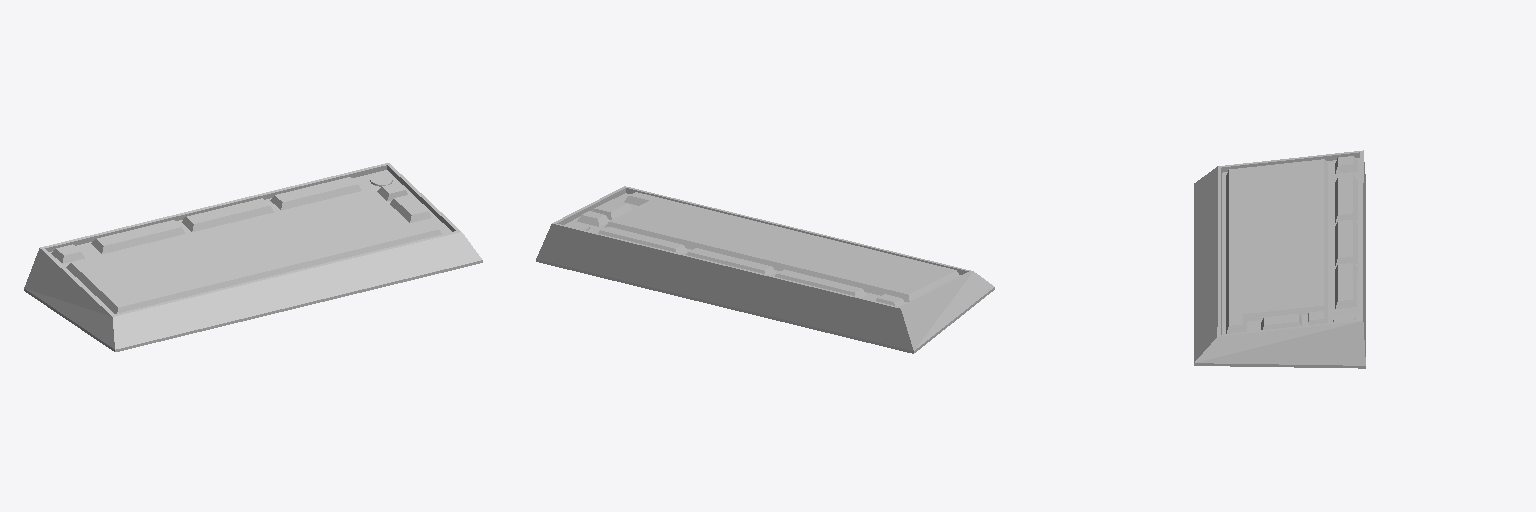
File: keyboard.obj
The picture shows the model from 3 angles: view 1: azimuth 30°, elevation 25°; view 2: azimuth 150°, elevation 25°; view 3: azimuth 270°, elevation 25°; orthographic projection.
Parts seen in each view (by area): view 1: Deco_01.008; view 2: Deco_01.008; view 3: Deco_01.008.
Part boxes in pixels (x1,y1,x2,y2): Deco_01.008: (24, 163, 482, 351); Deco_01.008: (536, 186, 994, 353); Deco_01.008: (1194, 150, 1365, 368).
Bounding box in the file's own units: 2.05 × 0.212 × 0.8082.